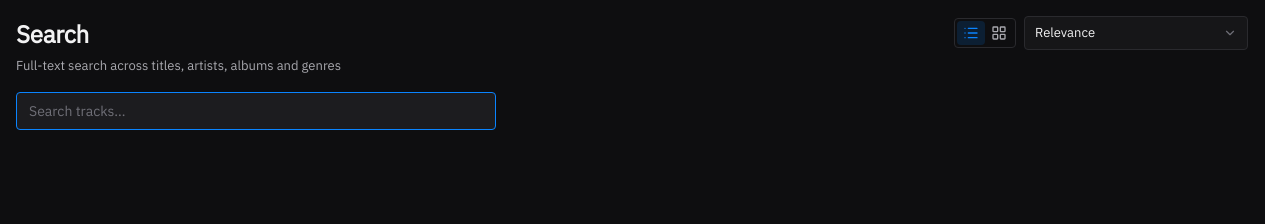
Test case: SearchView › says when nothing matches, quoting the query
Type "zzz" into the search field with placeholder "Search tracks…" at (256, 110), box [16,92,496,130]
Wait 300 ms
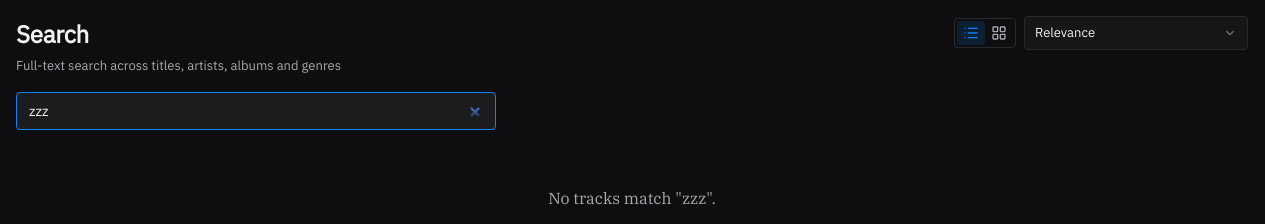
Expected: the text "No tracks match \"zzz\"." is shown, [548,188,716,208]
